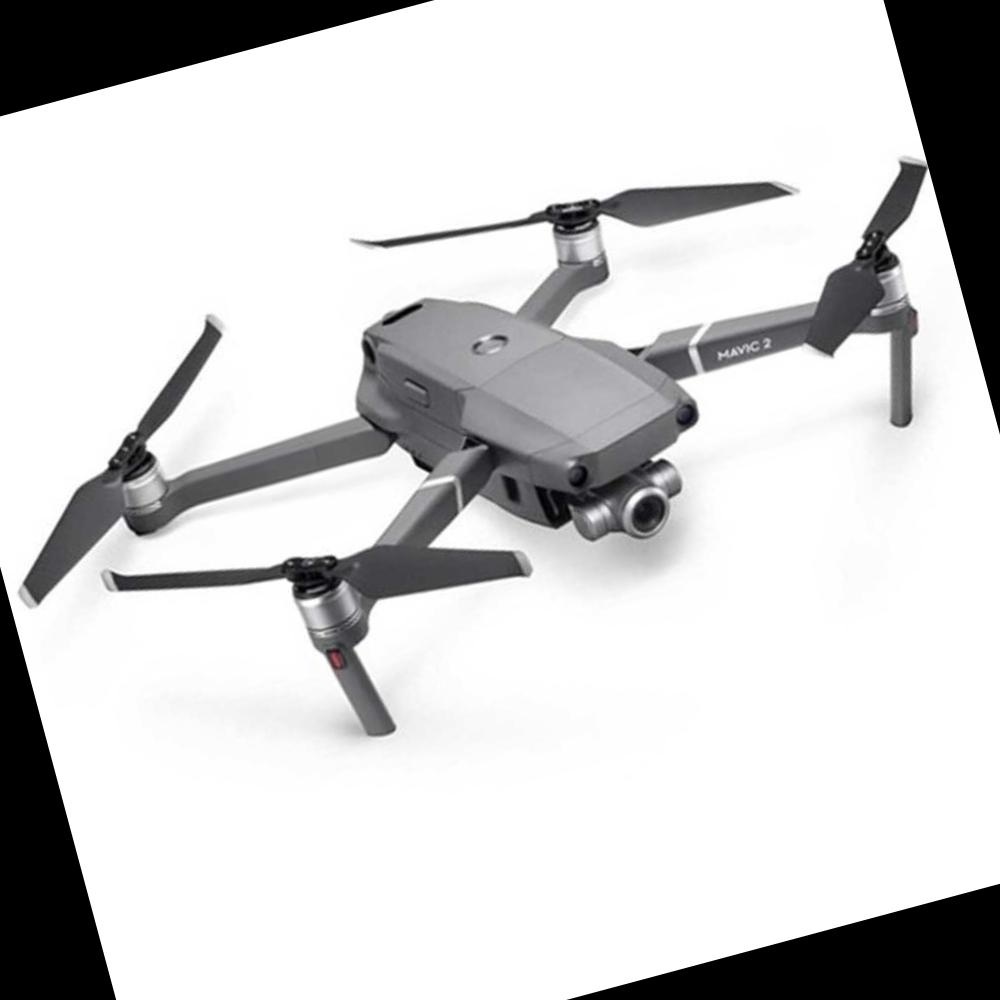drone: (0, 104, 1000, 763)
